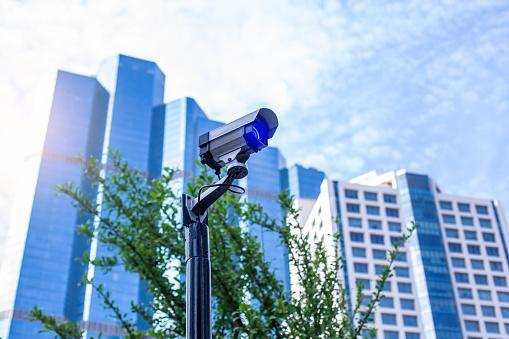camera: (191, 99, 293, 187)
